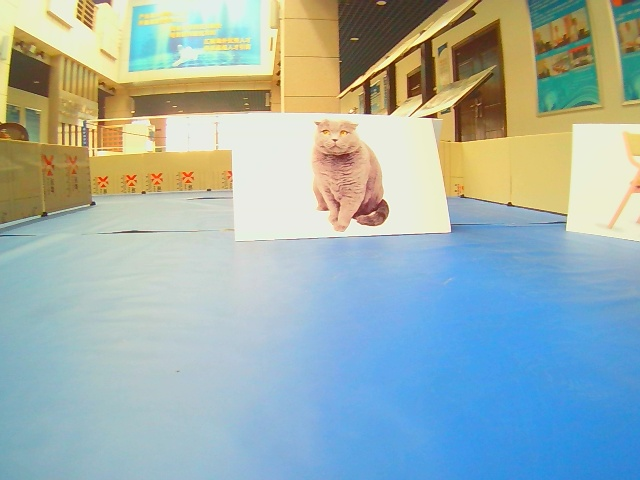pet: (227, 112, 452, 234)
